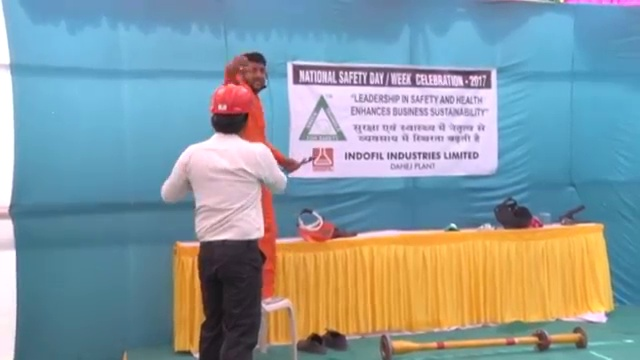helmet: (208, 84, 255, 115)
helmet_off: (238, 50, 268, 94)
helmet_on: (207, 85, 255, 138)
person: (157, 86, 283, 360), (221, 45, 301, 300)
